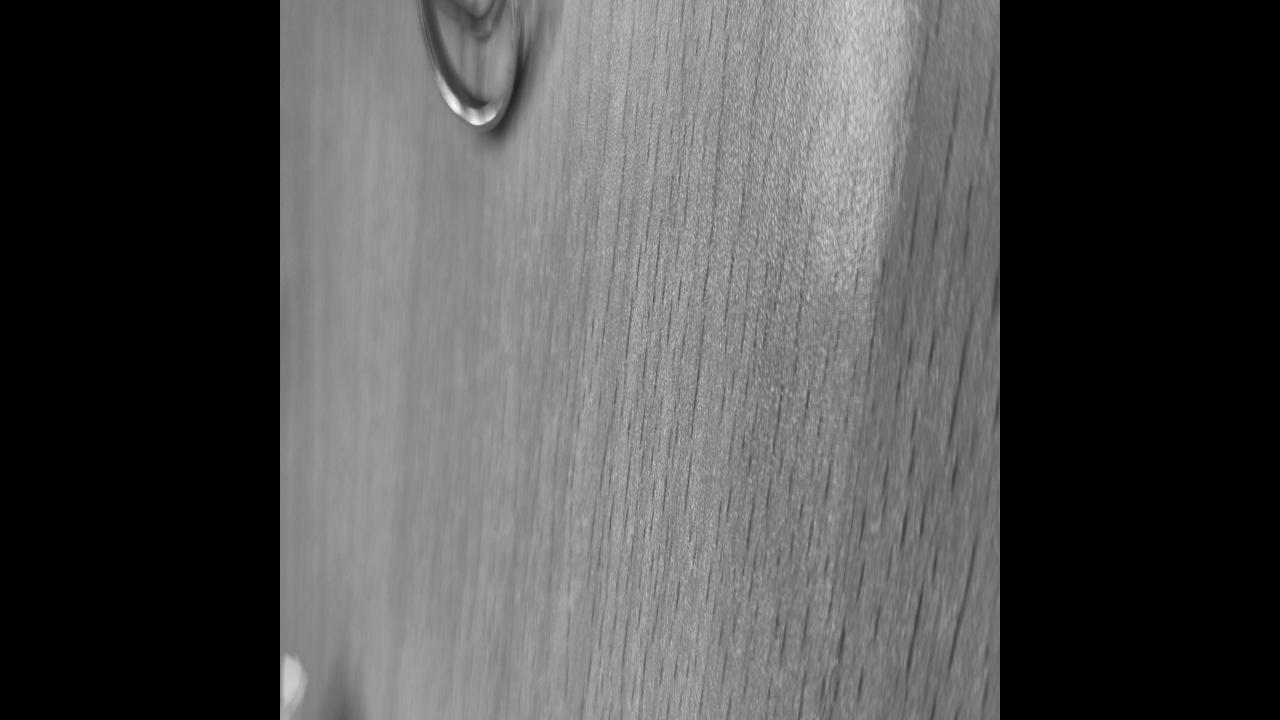ring: (412, 0, 525, 132)
